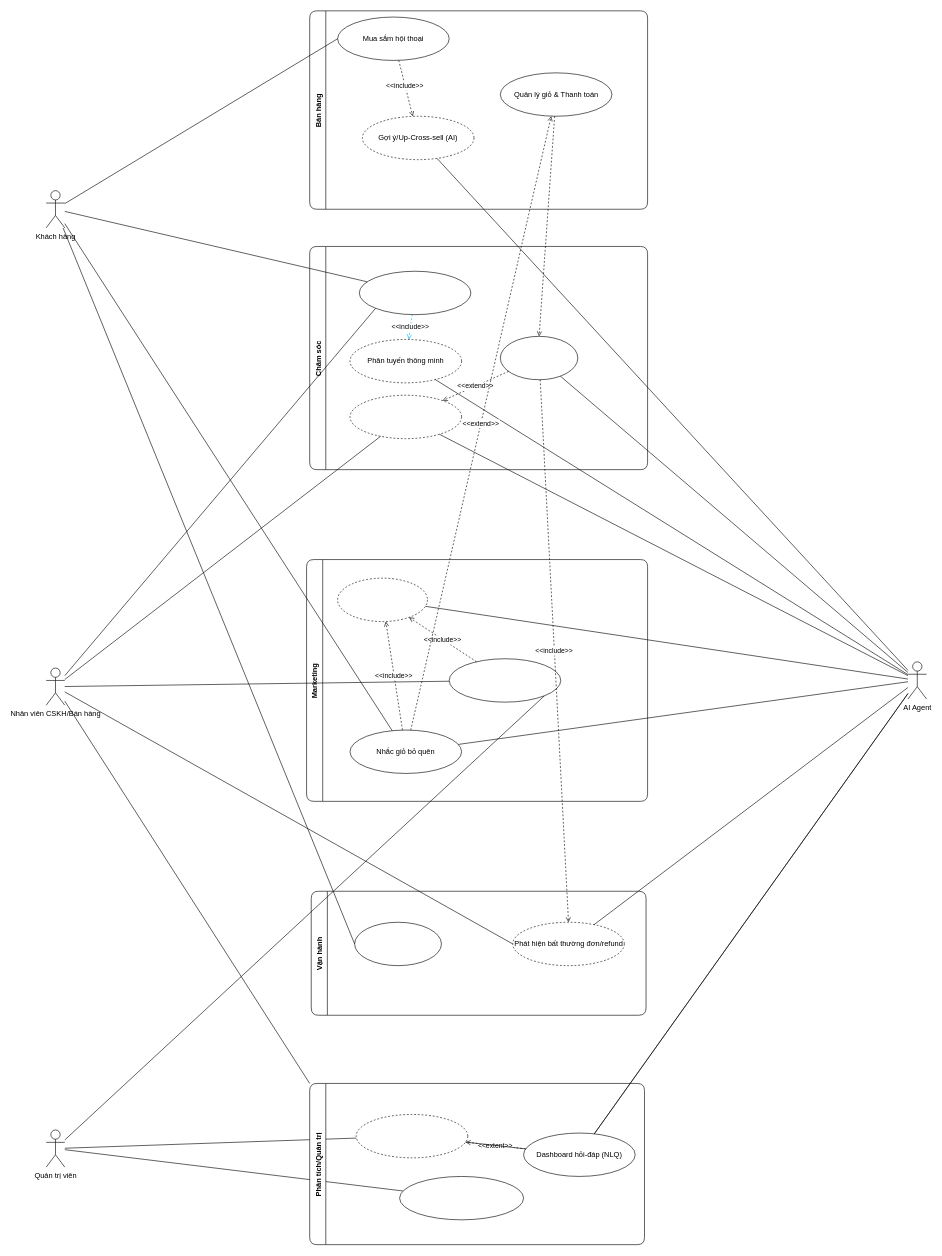
This 942x1256 diagram has some shape labels left out. The shapes that lost their labels are listed below. From the top down, each one's centre as x and y in pixels, then its label:
point (415, 293): Tạo ticket đa kênh
point (539, 358): Tự trả lời FAQ (RAG)
point (405, 417): Tóm tắt & Handover
point (382, 600): A/B nội dung & timing
point (505, 680): Hành trình cá nhân hoá
point (397, 944): Theo dõi đơn/Đổi-Trả
point (412, 1136): Cảnh báo KPI realtime
point (461, 1198): Quản lý KB/PII/RBAC/Audit
